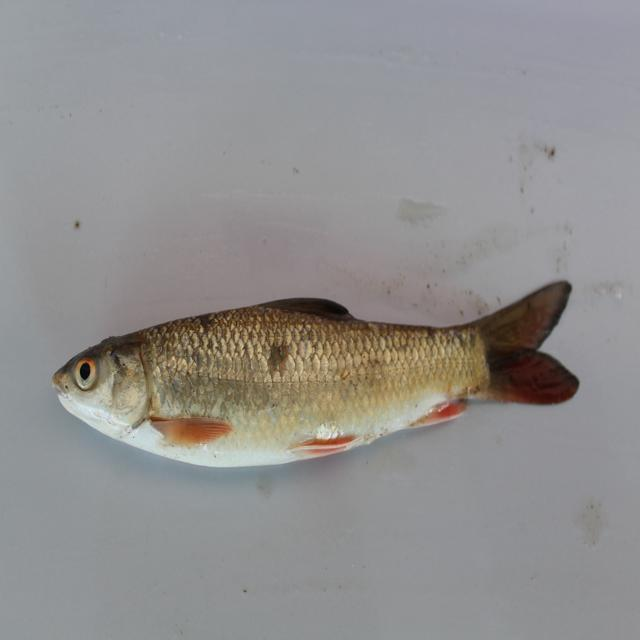Grass Carp: (47, 282, 585, 465)
